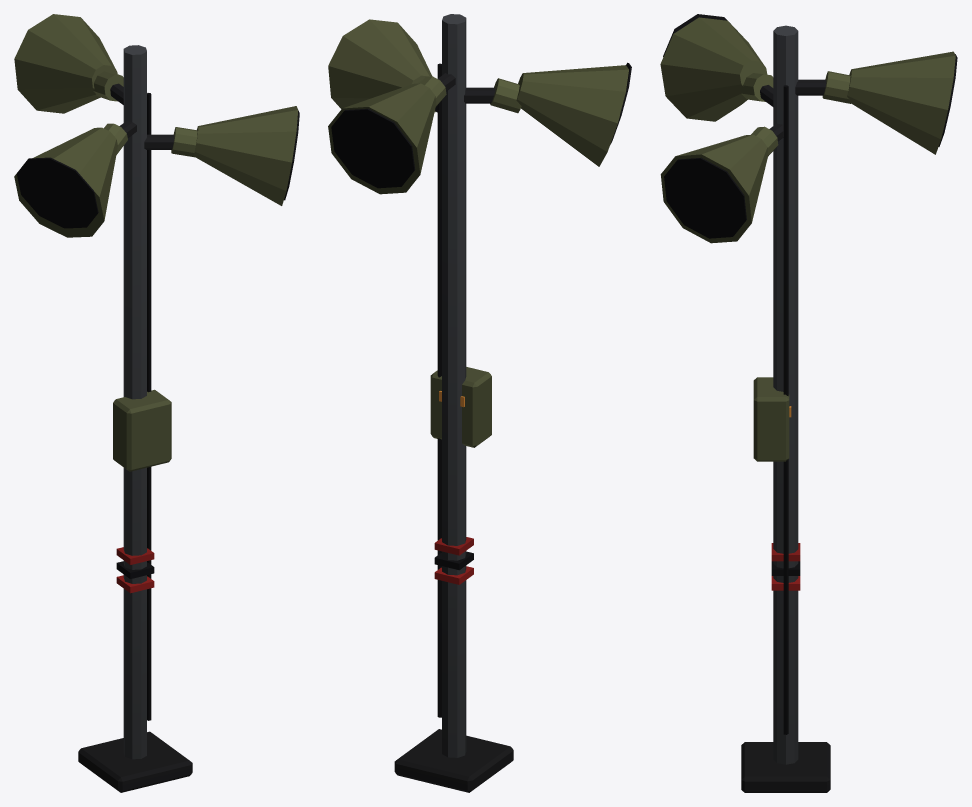
File: loudspeaker_pole.glb
3 renders of one model, left to right at view 1: azimuth 30°, elevation 25°; view 2: azimuth 150°, elevation 25°; view 3: azimuth 270°, elevation 25°, orthographic. The views are drawn at different scales.
Parts seen in each view (by area): view 1: loudspeaker_pole; view 2: loudspeaker_pole; view 3: loudspeaker_pole.
Part boxes in pixels (left/top/right/bottom): loudspeaker_pole: left=14, top=14, right=299, bottom=792; loudspeaker_pole: left=328, top=14, right=631, bottom=792; loudspeaker_pole: left=660, top=14, right=957, bottom=792.
Size of the model in its own units: 1.86 by 4.6 by 1.66.
